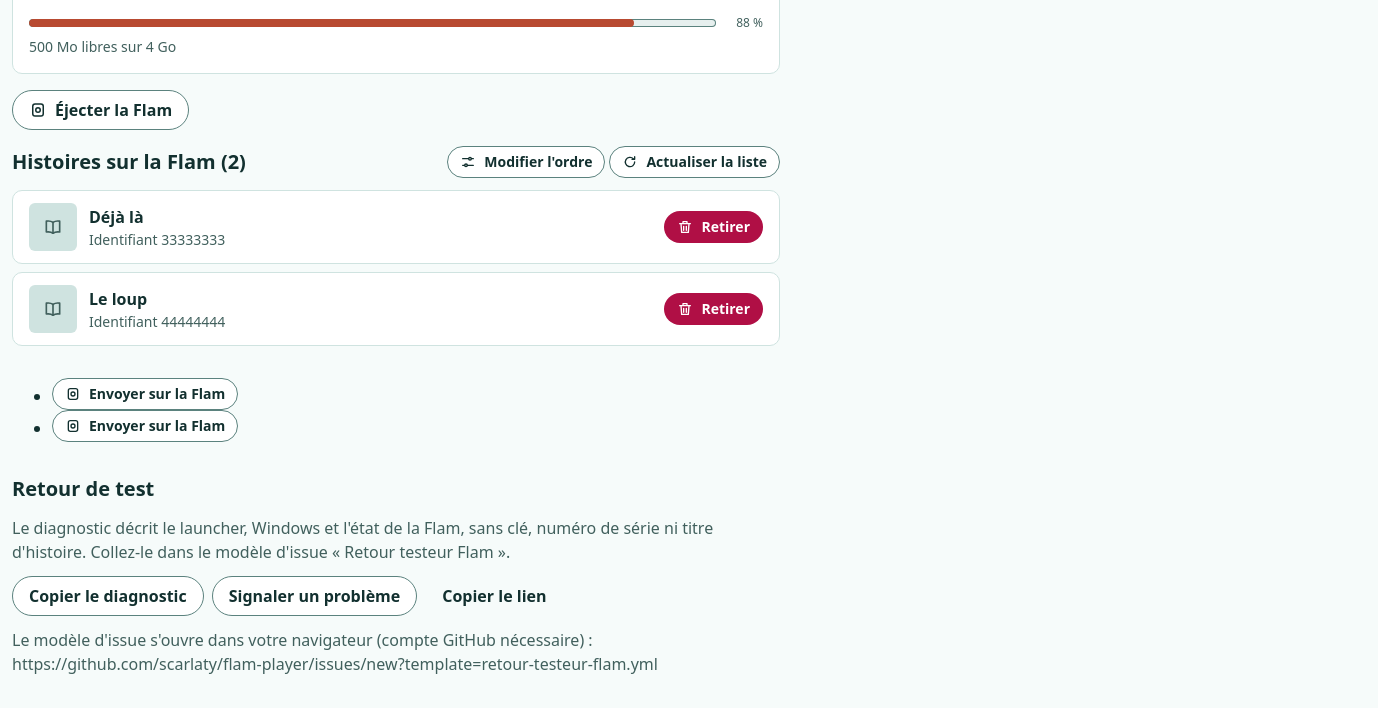
Test case: envoi manuel, autre Flam sous la même lettre entre le clic et l'envoi : rien n'est écrit, la file s'arrête
The image size is (1378, 708).
(page scrolled)
Expected: the heading "Histoires sur la Flam (2)" is shown, [12, 147, 246, 177]
Note: L'interface affiche encore la première Flam : les clics valent pour elle.
Click the 1st button "Envoyer sur la Flam": (145, 394) [52, 378, 238, 410]
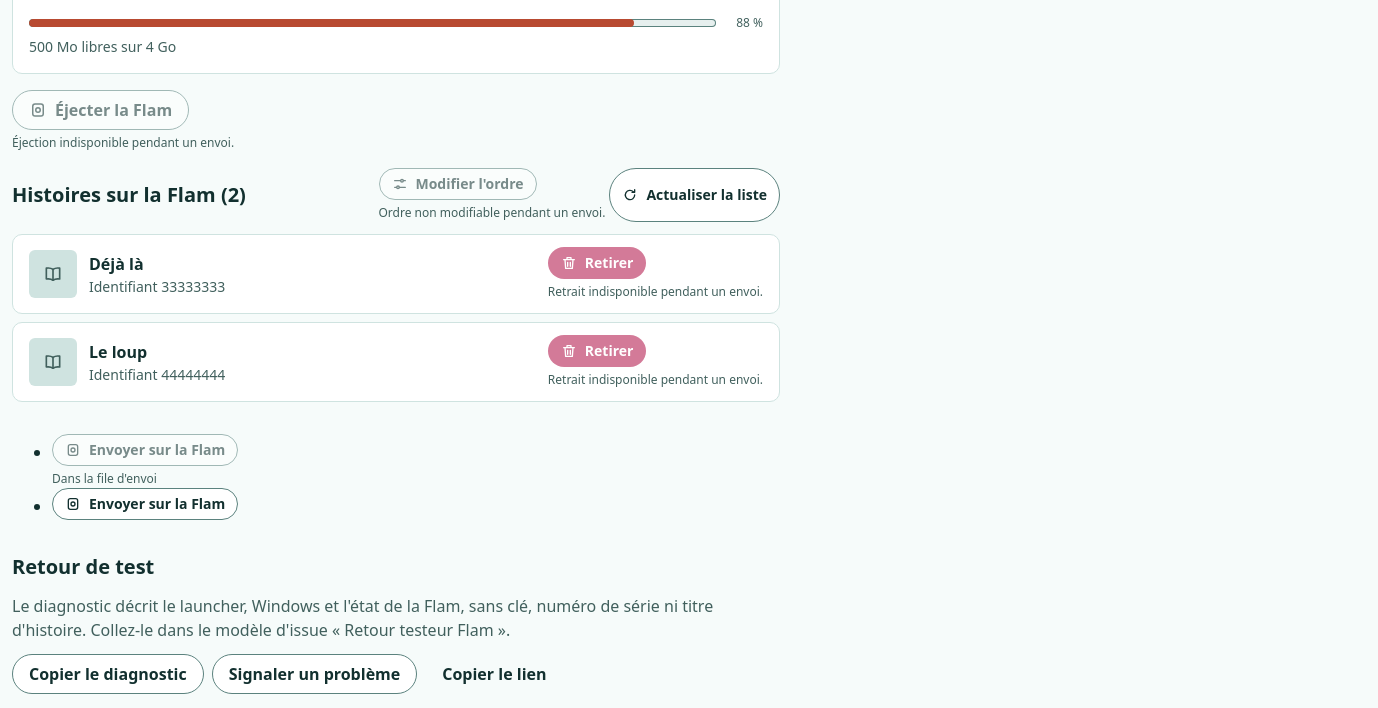
Click the 2nd button "Envoyer sur la Flam": (145, 504) [52, 488, 238, 520]
(page scrolled)
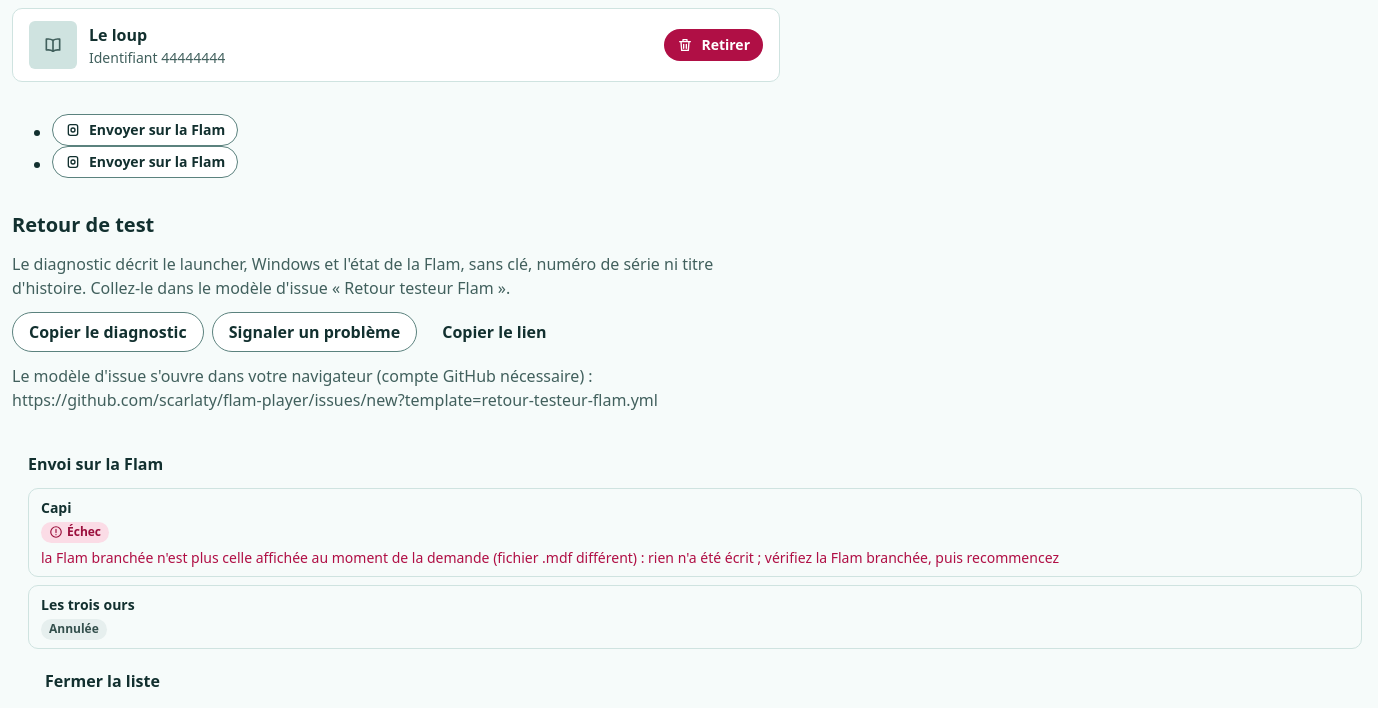
Expected: the text "la Flam branchée n'est plus celle affichée au moment de la demande (fichier .mdf différent) : rien n'a été écrit ; vérif" is shown, [41, 548, 1059, 567]
Expected: the text "Annulée" is shown, [41, 619, 107, 640]
